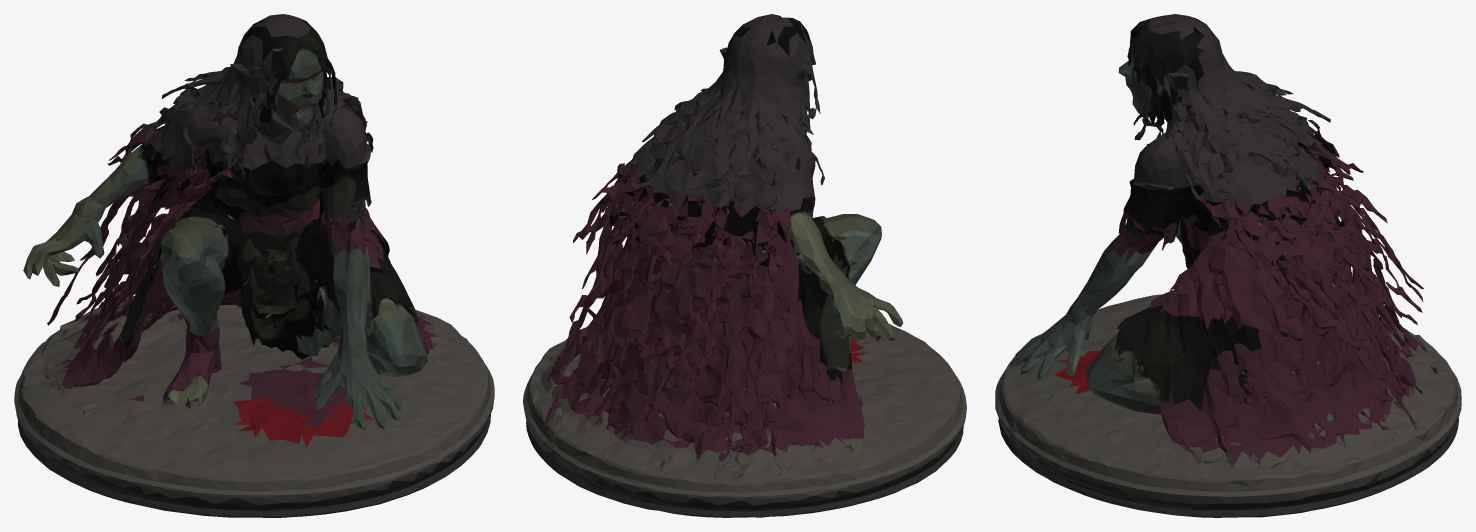
Rendered from cria_vampirica.glb.
3 views of the same model, side by side, from view 1: azimuth 30°, elevation 25°; view 2: azimuth 150°, elevation 25°; view 3: azimuth 270°, elevation 25° (orthographic). The views are drawn at different scales.
Visible parts, largest first — view 1: tmp272brz38.ply; view 2: tmp272brz38.ply; view 3: tmp272brz38.ply.
Boxes of the visible parts, bbox=[...] form: tmp272brz38.ply: bbox=[14, 14, 494, 517]; tmp272brz38.ply: bbox=[523, 14, 966, 517]; tmp272brz38.ply: bbox=[995, 14, 1461, 517].
Size of the model in its own units: 1.96 by 1.88 by 1.95.
Materials: 6 (1 with a texture image).
